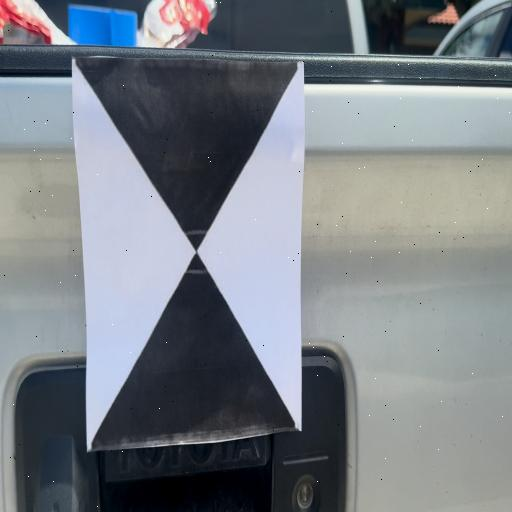target: (73, 57, 303, 453)
